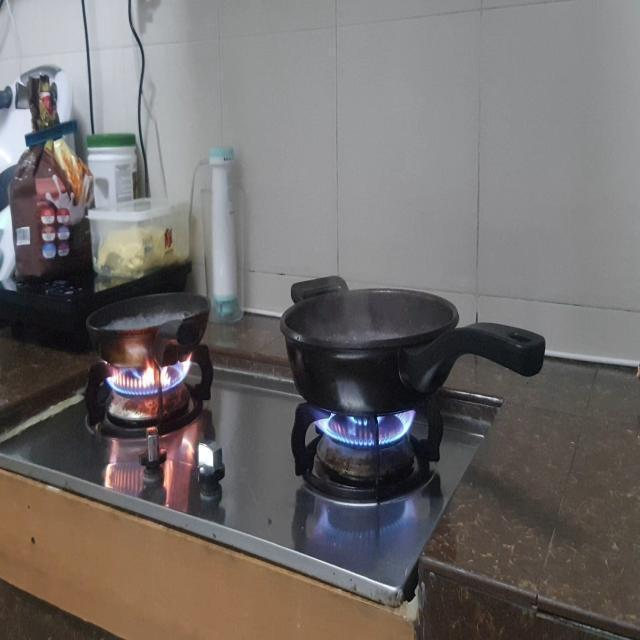smoke: (318, 394, 418, 449), (98, 358, 204, 401)
